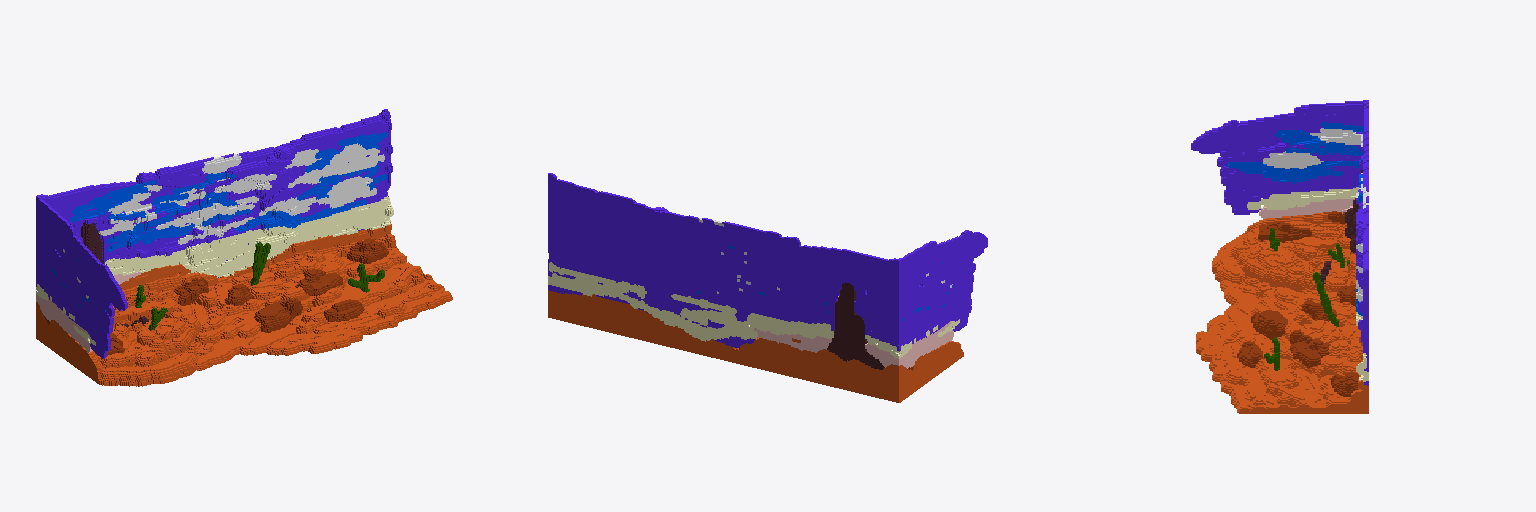
The picture shows the model from 3 angles: view 1: azimuth 30°, elevation 25°; view 2: azimuth 150°, elevation 25°; view 3: azimuth 270°, elevation 25°; orthographic projection.
Visible parts, largest first — view 1: object 1; view 2: object 1; view 3: object 1.
Boxes of the visible parts, x1,y1,x2,y2 form: object 1: [36, 109, 452, 386]; object 1: [548, 173, 987, 402]; object 1: [1191, 100, 1368, 413].
Bounding box in the file's own units: 25.6 × 10 × 11.2.
1 materials, 1 textured.